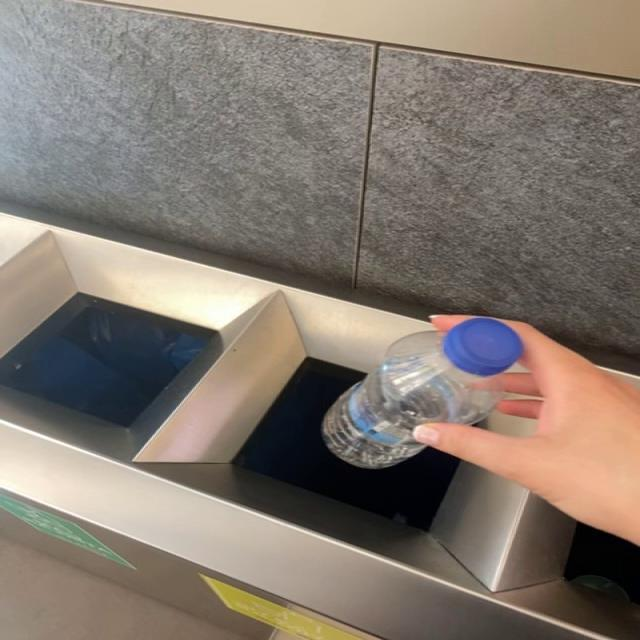Plastic: (323, 318, 524, 470)
